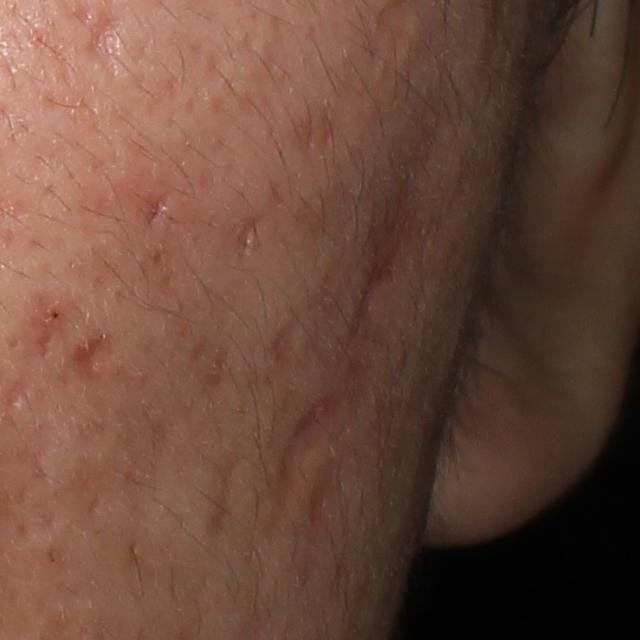atrophic_scar: (47, 384, 167, 535), (262, 370, 354, 543), (349, 169, 425, 333), (228, 182, 290, 263), (202, 437, 246, 539), (77, 319, 121, 385), (134, 190, 173, 234), (273, 308, 301, 359), (2, 370, 26, 409)
